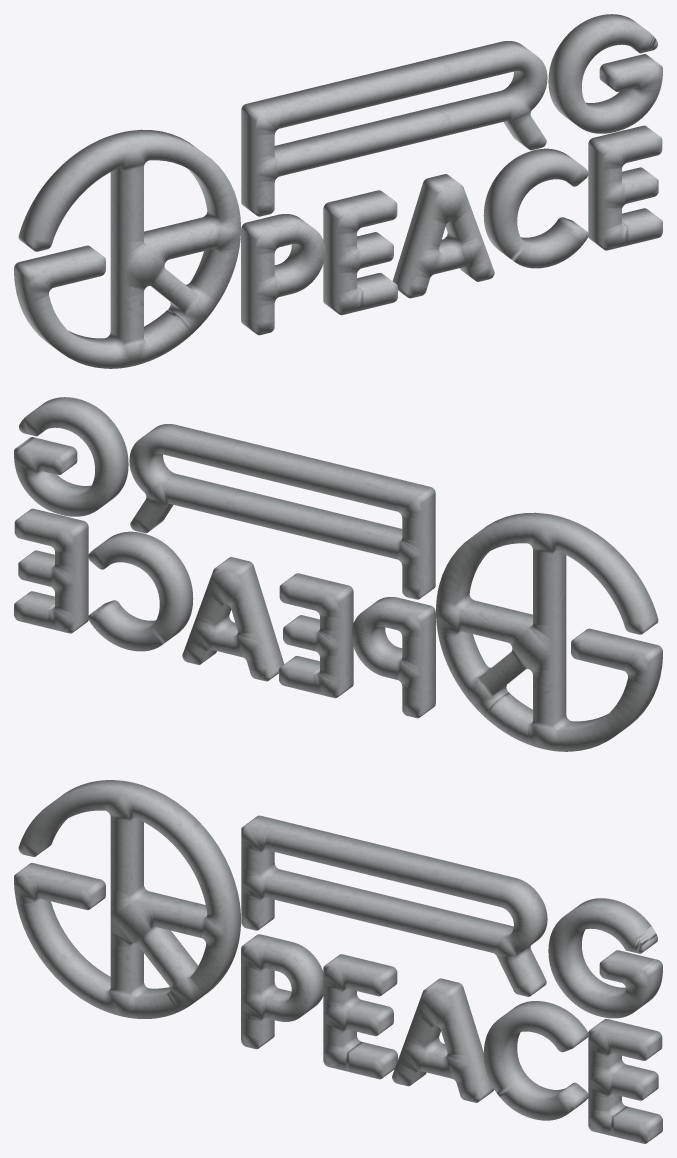
File: portfolio.glb
3 renders of one model, top to bottom at view 1: azimuth 30°, elevation 25°; view 2: azimuth 150°, elevation 25°; view 3: azimuth 330°, elevation 25°, orthographic.
Visible parts, largest first — view 1: LOGO3D.svg; view 2: LOGO3D.svg; view 3: LOGO3D.svg.
Part boxes in pixels (x1,y1,x2,y2): LOGO3D.svg: [14, 14, 662, 368]; LOGO3D.svg: [14, 397, 662, 751]; LOGO3D.svg: [14, 780, 662, 1143].
Size of the model in its own units: 1.18 by 0.3998 by 0.0465.
Materials: 1 (1 with a texture image).
